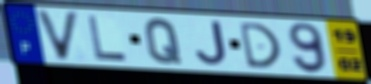9: (287, 22, 329, 75)
D: (236, 21, 283, 69)
J: (193, 20, 229, 68)
L: (85, 14, 130, 62)
Q: (142, 16, 184, 65)
V: (33, 9, 82, 63)
